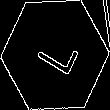L_NW: (29, 29, 81, 81)
